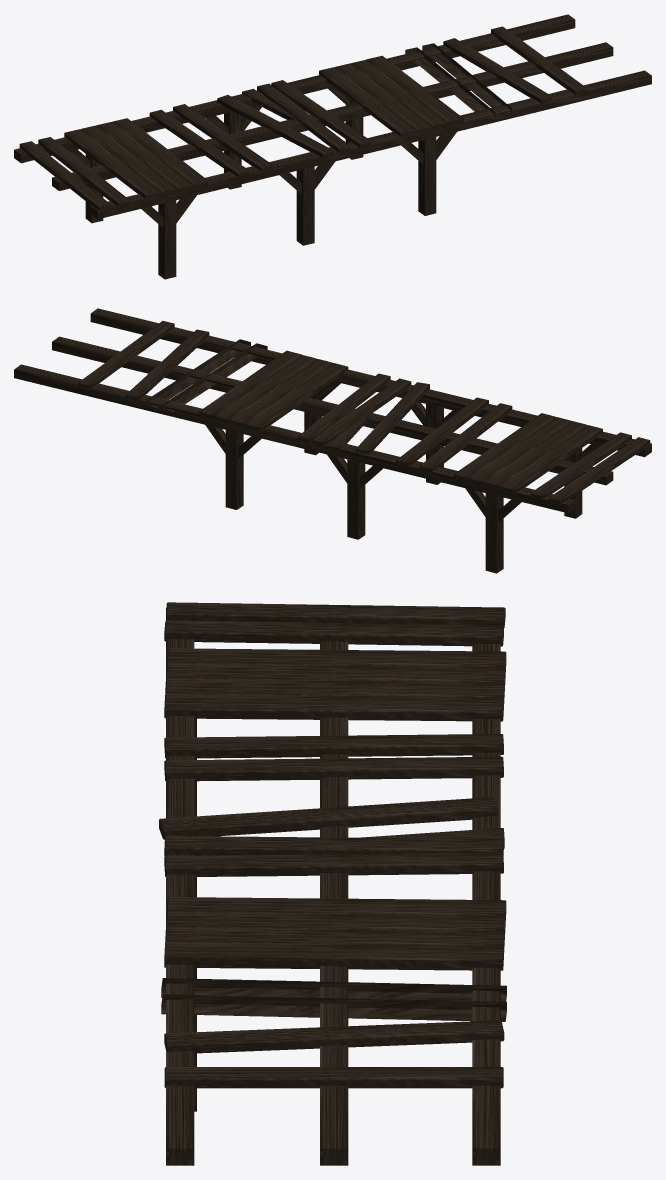
The model's file is pier.obj.
3 views of the same model, one above another, from view 1: azimuth 30°, elevation 25°; view 2: azimuth 150°, elevation 25°; view 3: azimuth 270°, elevation 25° (orthographic). The views are drawn at different scales.
Parts seen in each view (by area): view 1: Cube.007_Cube.008; view 2: Cube.007_Cube.008; view 3: Cube.007_Cube.008.
Part boxes in pixels (bbox=[...]): Cube.007_Cube.008: bbox=[14, 14, 651, 279]; Cube.007_Cube.008: bbox=[14, 308, 651, 573]; Cube.007_Cube.008: bbox=[159, 602, 506, 1165].
Bounding box in the file's own units: 25.32 × 3.93 × 6.89.
Materials: 1 (1 with a texture image).
